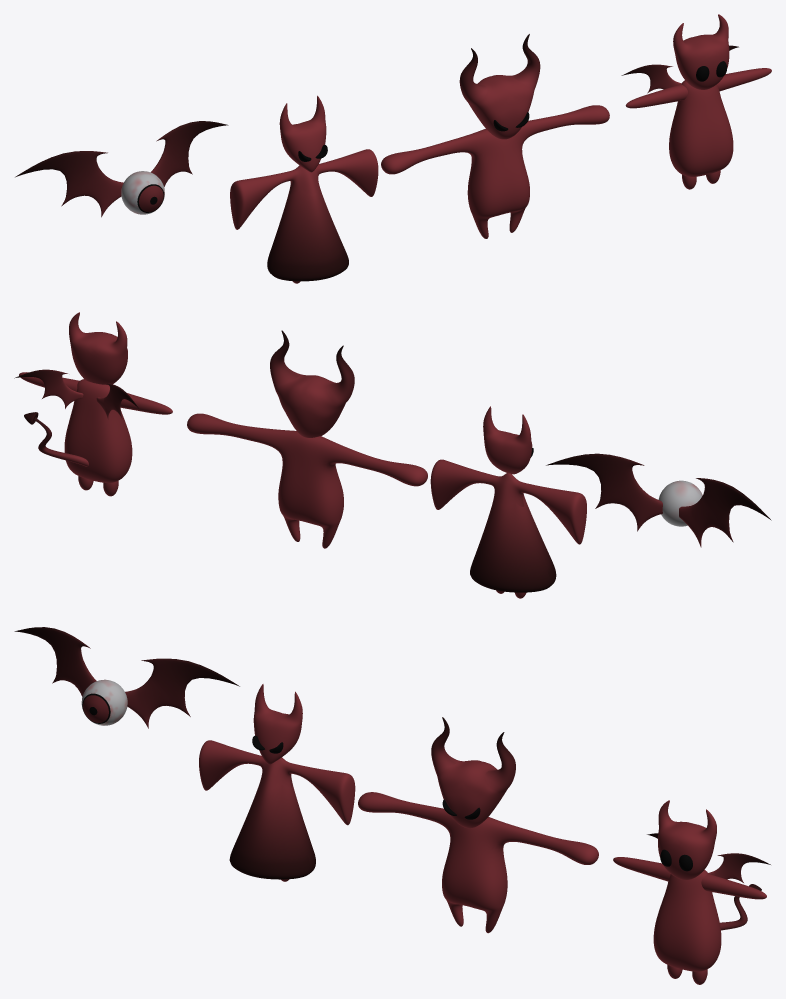
Rendered from BasicDemons (old).fbx.
The picture shows the model from 3 angles, top to bottom: view 1: azimuth 30°, elevation 25°; view 2: azimuth 150°, elevation 25°; view 3: azimuth 330°, elevation 25°; orthographic projection. The views are drawn at different scales.
Visible parts, largest first — view 1: DemonLongArms, DemonMage, DemonSmallWings, DemonEye; view 2: DemonLongArms, DemonMage, DemonSmallWings, DemonEye; view 3: DemonLongArms, DemonMage, DemonSmallWings, DemonEye.
Part boxes in pixels (x1,y1,x2,y2): DemonLongArms: (381,34,609,238); DemonMage: (230,95,378,283); DemonSmallWings: (621,14,771,189); DemonEye: (15,121,228,217); DemonLongArms: (187,330,427,548); DemonMage: (430,406,586,598); DemonSmallWings: (14,312,172,496); DemonEye: (546,453,771,547); DemonLongArms: (358,717,598,933); DemonMage: (199,684,355,881); DemonSmallWings: (613,800,770,984); DemonEye: (14,627,239,728).
Bounding box in the file's own units: 3342 × 376 × 850.
